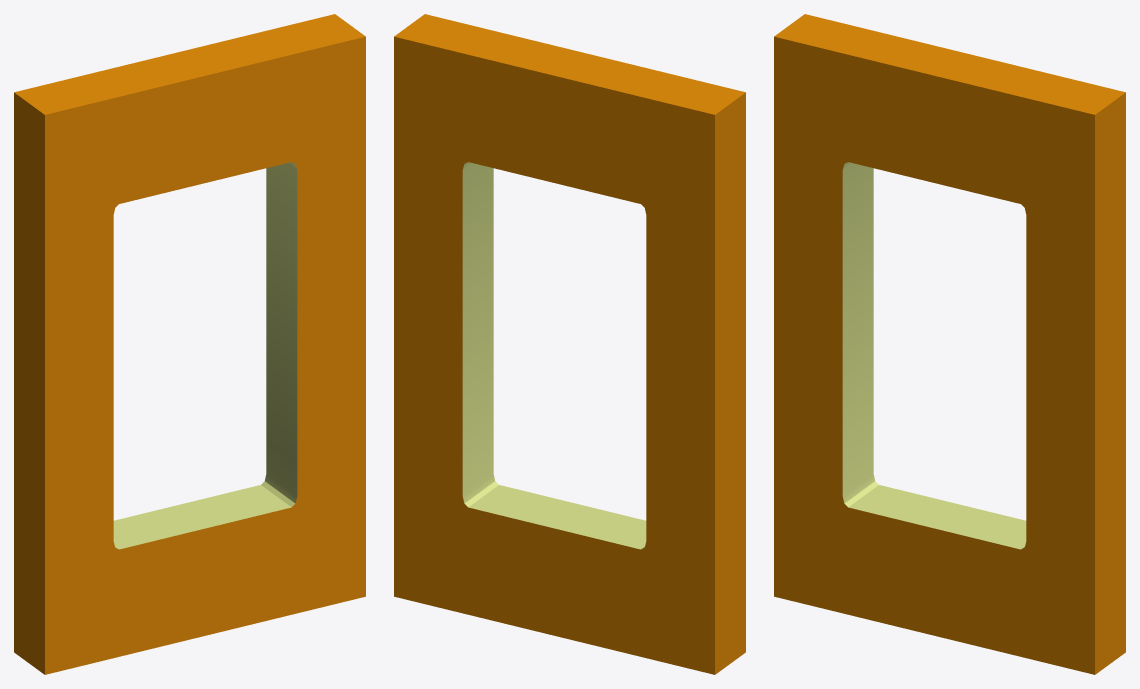
File: Map.fbx
3 renders of one model, left to right at view 1: azimuth 30°, elevation 25°; view 2: azimuth 150°, elevation 25°; view 3: azimuth 330°, elevation 25°, orthographic.
Visible parts, largest first — view 1: Cube; view 2: Cube; view 3: Cube.
Boxes of the visible parts, x1,y1,x2,y2 form: Cube: (14,14,365,674); Cube: (394,14,745,674); Cube: (774,14,1125,674).
Bounding box in the file's own units: 12 × 20 × 2.
